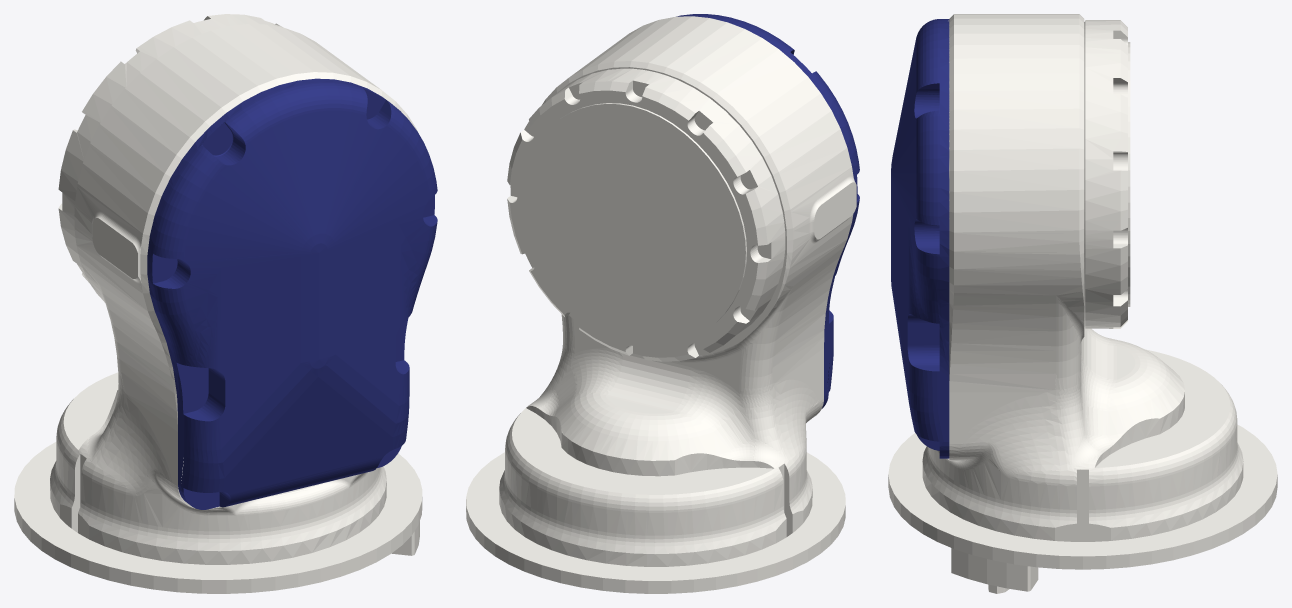
The picture shows the model from 3 angles, left to right: view 1: azimuth 30°, elevation 25°; view 2: azimuth 150°, elevation 25°; view 3: azimuth 270°, elevation 25°; orthographic projection. The views are drawn at different scales.
Parts seen in each view (by area): view 1: Link_S; view 2: Link_S; view 3: Link_S.
Part boxes in pixels (x1=…): Link_S: x1=14, y1=14, x2=437, y2=593; Link_S: x1=466, y1=14, x2=859, y2=593; Link_S: x1=888, y1=14, x2=1277, y2=593.
Size of the model in its own units: 0.16 by 0.16 by 0.2259.
1 material, 1 textured.
